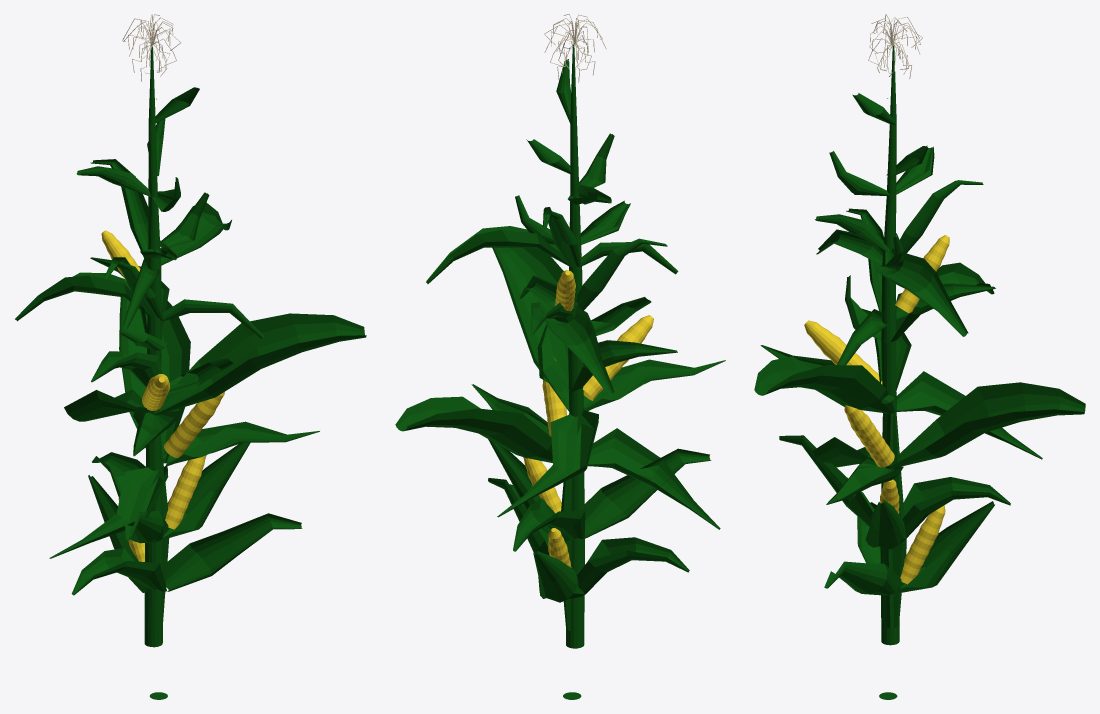
File: Corn.fbx
The picture shows the model from 3 angles, left to right: view 1: azimuth 30°, elevation 25°; view 2: azimuth 150°, elevation 25°; view 3: azimuth 270°, elevation 25°; orthographic projection.
Parts seen in each view (by area): view 1: Corn_Lod0; view 2: Corn_Lod0; view 3: Corn_Lod0.
Part boxes in pixels (left/top/right/bottom): Corn_Lod0: left=15, top=14, right=366, bottom=699; Corn_Lod0: left=395, top=14, right=725, bottom=699; Corn_Lod0: left=754, top=14, right=1085, bottom=699.
Size of what is drawn, in the model's own units: 389 by 920 by 408.
